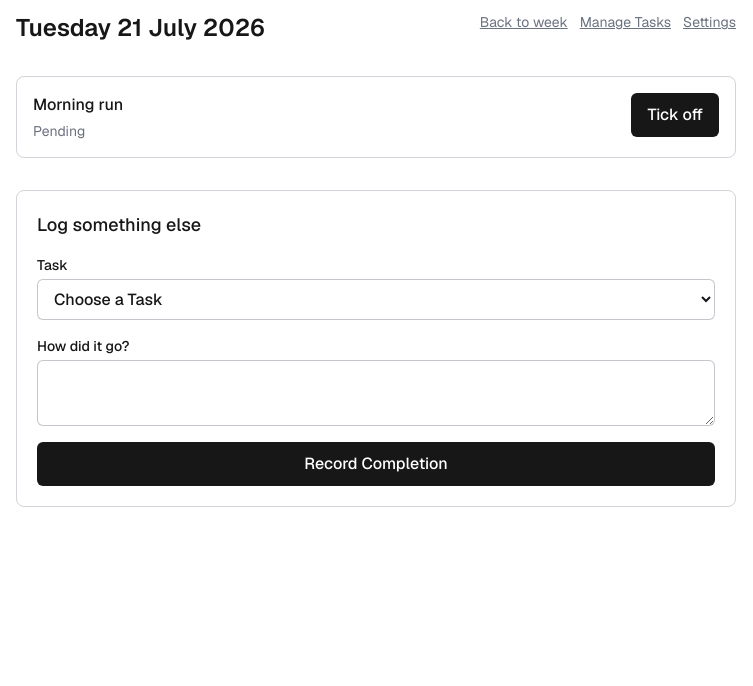
Day page › ticks off a Pending Planned Activity on a past date, posting that date as completedDate
Click the button with aria-label "Tick off Morning run" at (675, 115), box [632,93,719,137]
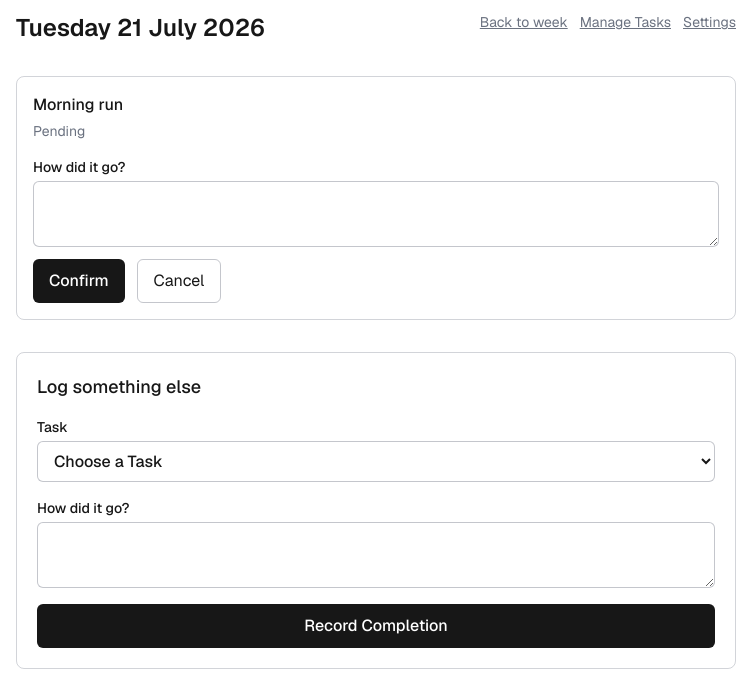
Type "Great run" into the text box named "How did it go for Morning run" at (376, 214), box [33,181,719,247]
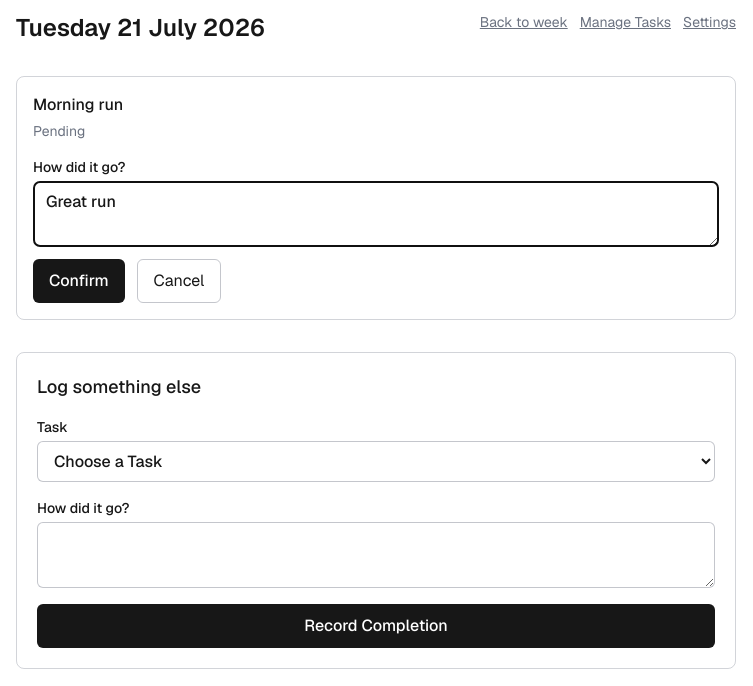
Click the button with aria-label "Confirm Morning run" at (79, 281), box [33,259,125,303]
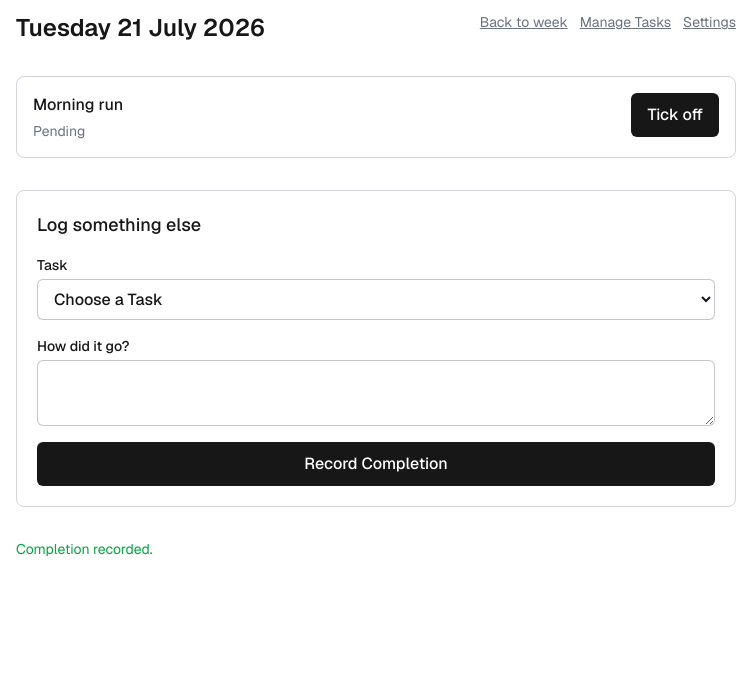
Now the text "Completion recorded." is shown, box [16,540,153,558]
